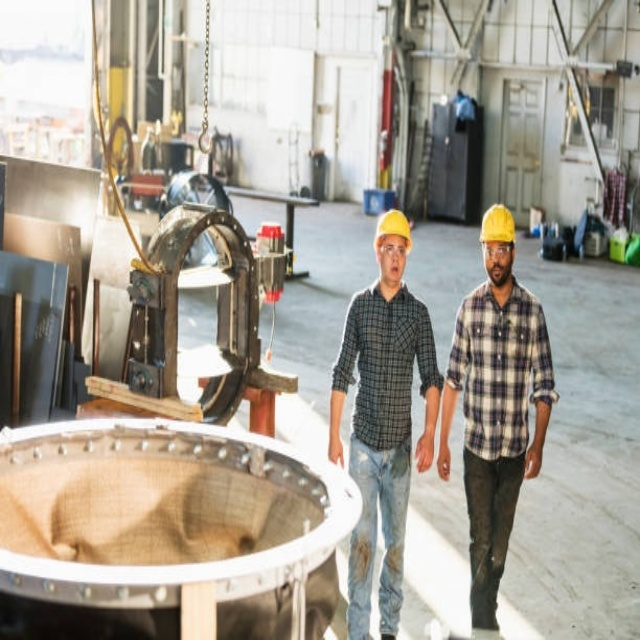Gafas: (483, 246, 513, 260), (380, 245, 407, 257)
Sin_guantes: (326, 433, 351, 472), (524, 441, 545, 483), (415, 431, 434, 475), (437, 442, 457, 482)
Sin_mascara: (384, 262, 406, 279), (489, 264, 507, 281)
